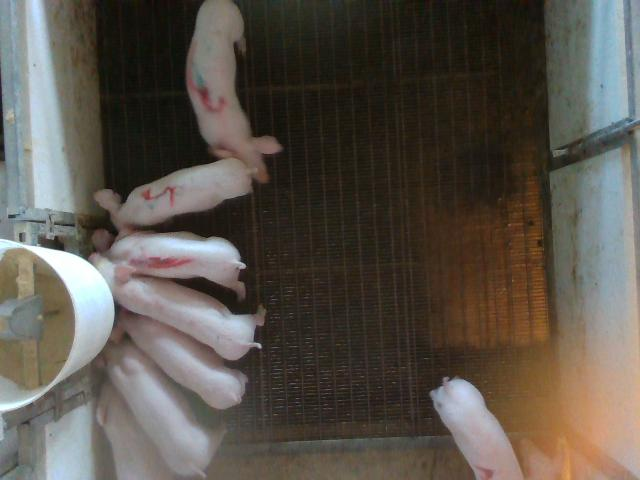pig-1: (92, 229, 245, 299)
pig-3: (186, 0, 282, 182)
pig-5: (95, 158, 256, 236)
